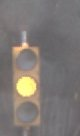Yellow: (9, 36, 46, 134)
